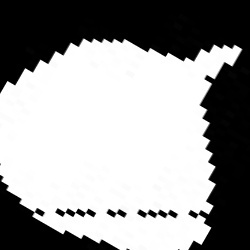spot: (2, 38, 242, 248)
